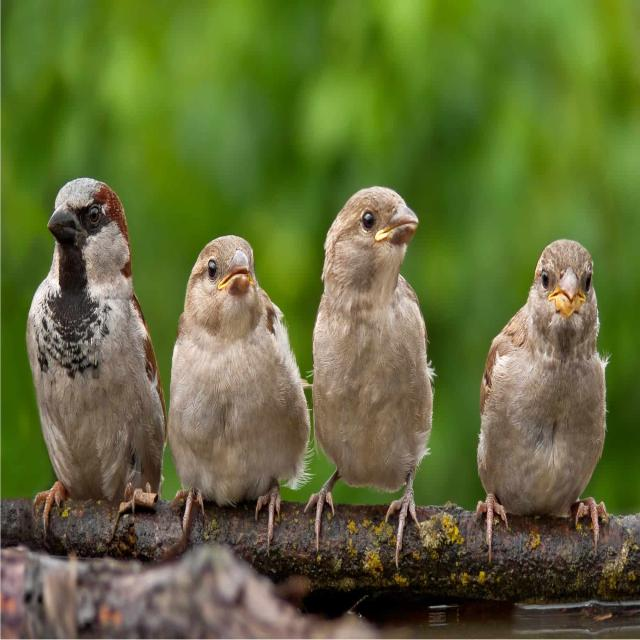Sparrow: (32, 172, 165, 536), (316, 176, 432, 558), (172, 232, 310, 536), (479, 234, 610, 546)
